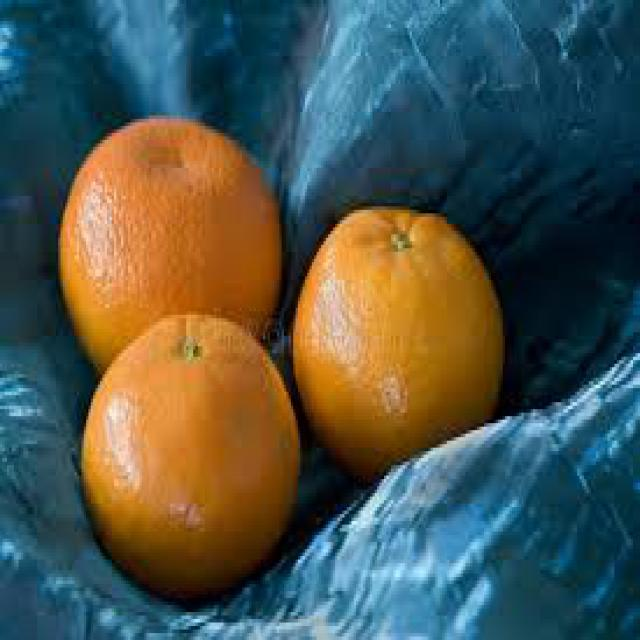orange: (79, 312, 299, 598), (289, 205, 503, 483), (57, 116, 281, 378)
